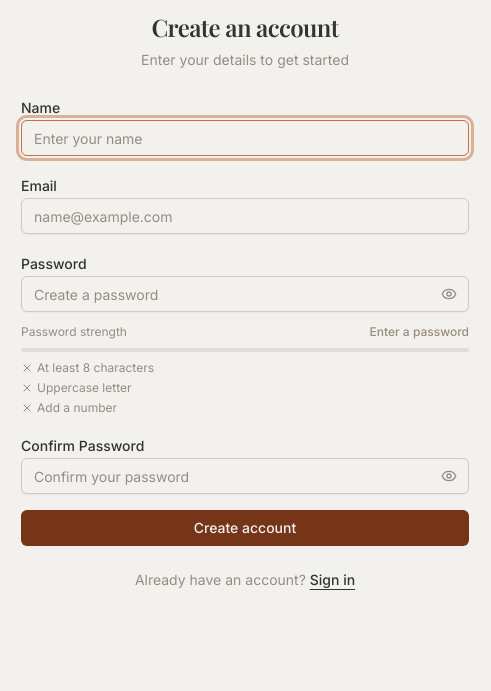
RegisterForm › validation › validates confirm password matches
Type "password123" into the password field labelled "Password" at {"x": 245, "y": 294}, box [21,276,469,312]
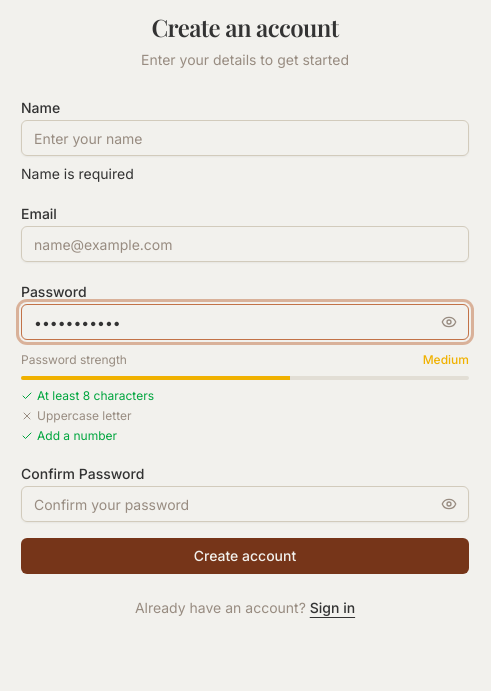
Type "differentpass" into the password field labelled "Confirm Password" at {"x": 245, "y": 504}, box [21,486,469,522]
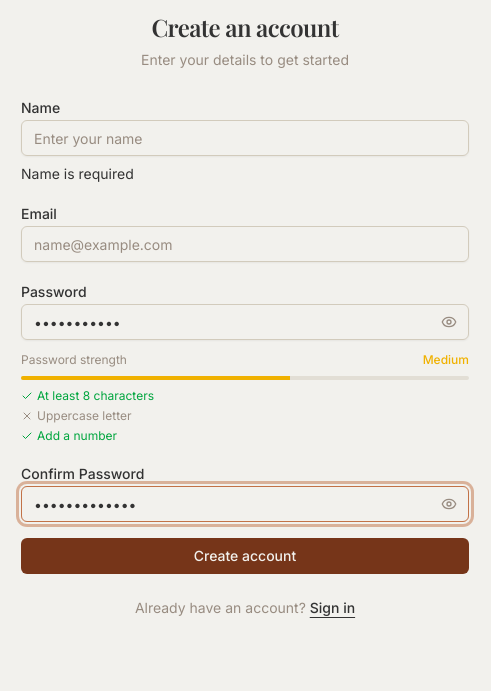
Click the button "Create account" at {"x": 245, "y": 556}, box [21,538,469,574]
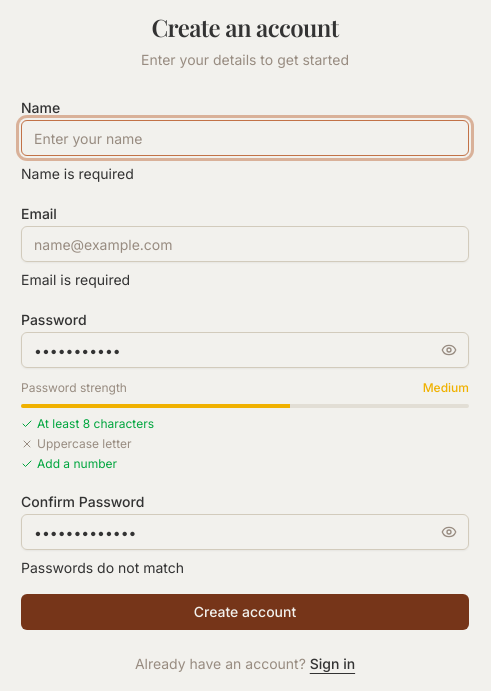
Now the text "Passwords do not match" is shown, box [21,559,184,576]
